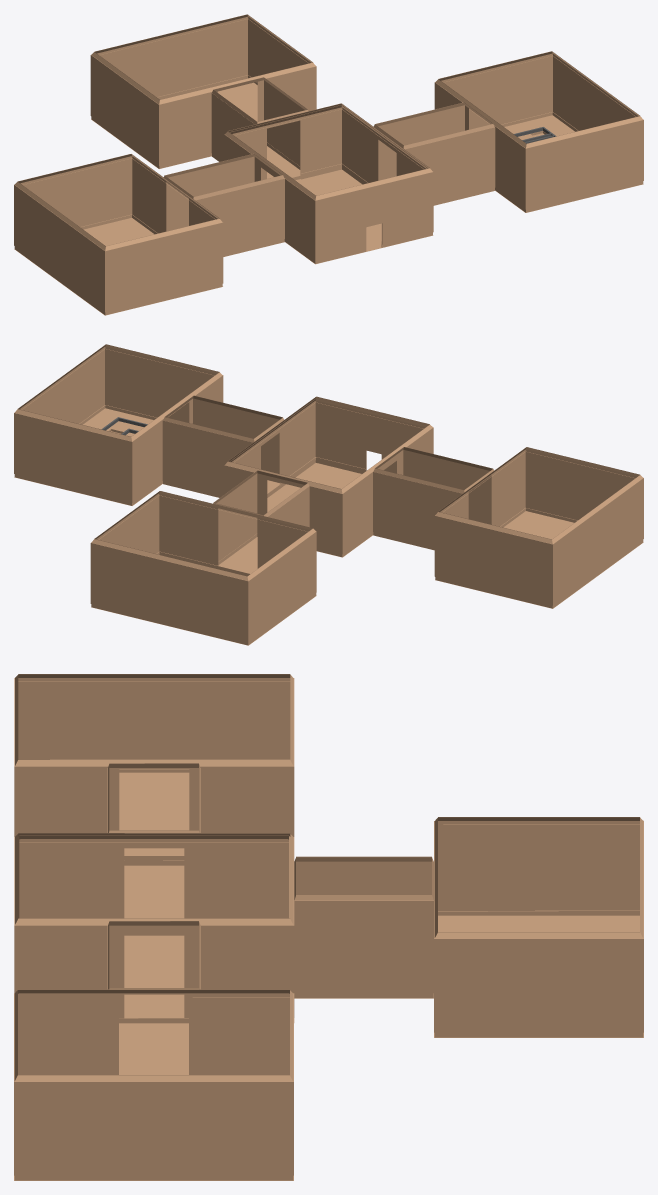
The model's file is Building.fbx.
3 renders of one model, top to bottom at view 1: azimuth 30°, elevation 25°; view 2: azimuth 150°, elevation 25°; view 3: azimuth 270°, elevation 25°, orthographic. The views are drawn at different scales.
Visible parts, largest first — view 1: RightRoom, BackRoom, LeftRoom, MainRoom, RHallway, LHallway, BackHallway; view 2: RightRoom, BackRoom, LeftRoom, MainRoom, RHallway, LHallway, BackHallway; view 3: LeftRoom, BackRoom, RightRoom, MainRoom, BackHallway, LHallway, RHallway.
Boxes of the visible parts, x1,y1,x2,y2 form: RightRoom: (14,154,223,315); BackRoom: (90,14,316,168); LeftRoom: (434,51,643,212); MainRoom: (224,103,433,264); RHallway: (163,153,284,256); LHallway: (373,102,495,205); BackHallway: (211,77,308,180); RightRoom: (434,447,643,608); BackRoom: (90,491,316,645); LeftRoom: (14,344,223,505); MainRoom: (224,396,433,557); RHallway: (373,447,493,550); LHallway: (162,395,283,497); BackHallway: (213,470,309,573); LeftRoom: (14,989,293,1180); BackRoom: (434,817,643,1037); RightRoom: (14,674,294,860); MainRoom: (14,833,294,1022); BackHallway: (294,856,433,998); LHallway: (107,921,200,1074); RHallway: (107,763,200,918).
Size of the model in its own units: 16947 by 2043 by 11164.
